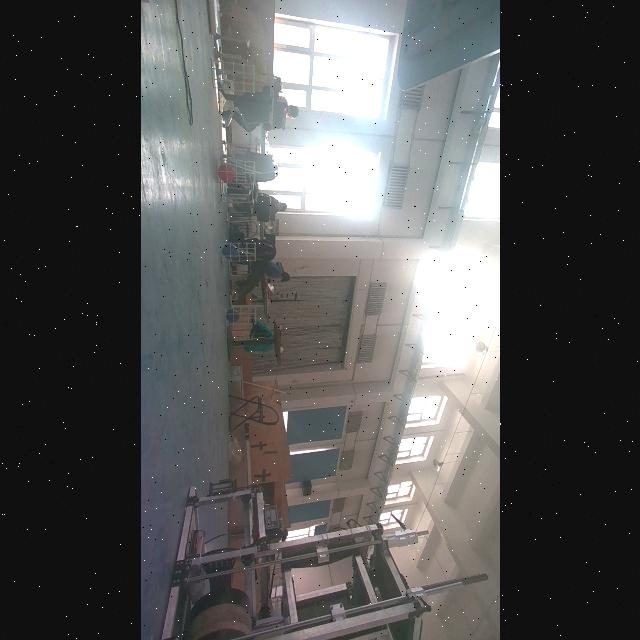B: (222, 242, 236, 262), (224, 309, 240, 323)
R: (216, 162, 234, 184)
S: (209, 56, 257, 96), (213, 157, 259, 187), (219, 238, 257, 266), (222, 302, 258, 328)
